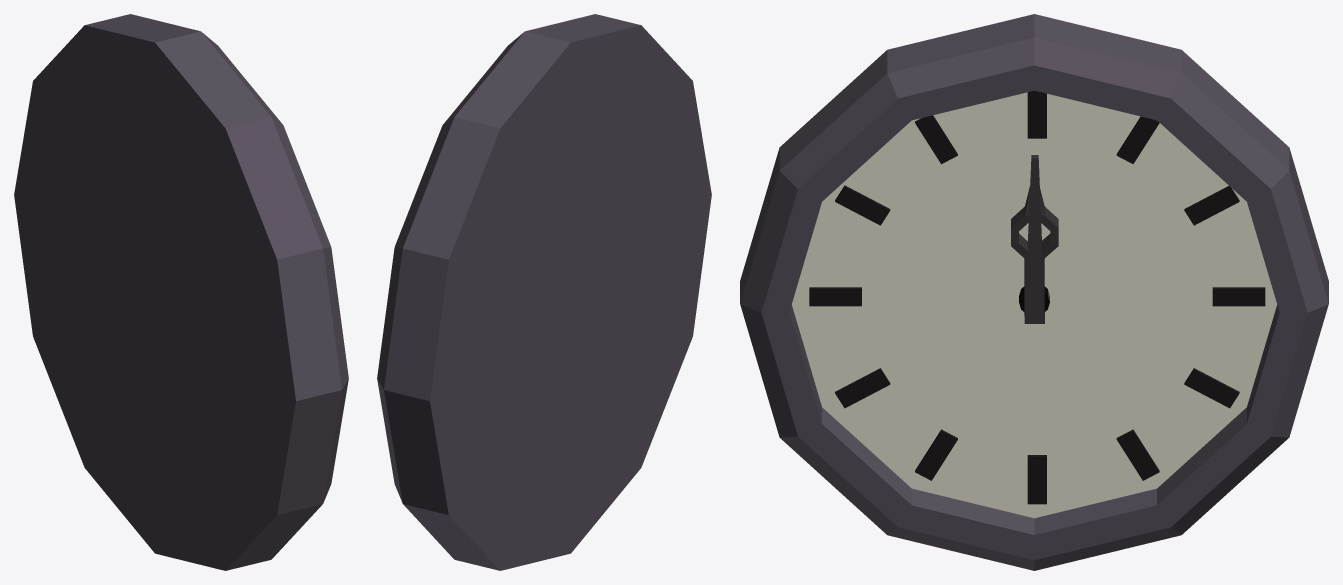
The picture shows the model from 3 angles, left to right: view 1: azimuth 30°, elevation 25°; view 2: azimuth 150°, elevation 25°; view 3: azimuth 270°, elevation 25°; orthographic projection. The views are drawn at different scales.
Parts seen in each view (by area): view 1: Tower_Clock; view 2: Tower_Clock; view 3: Tower_Clock, Tower_Clock_Minute, Tower_Clock_Hour.
Part boxes in pixels (<box>): Tower_Clock: <box>14,14,348,570</box>; Tower_Clock: <box>377,14,711,570</box>; Tower_Clock: <box>740,14,1328,570</box>; Tower_Clock_Minute: <box>1024,155,1044,323</box>; Tower_Clock_Hour: <box>1011,185,1058,315</box>.
Bounding box in the file's own units: 813 × 115 × 813.
